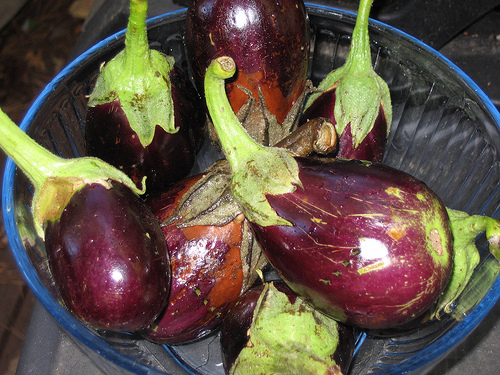eggplant: (228, 127, 453, 334), (17, 140, 179, 351), (87, 34, 190, 204)
